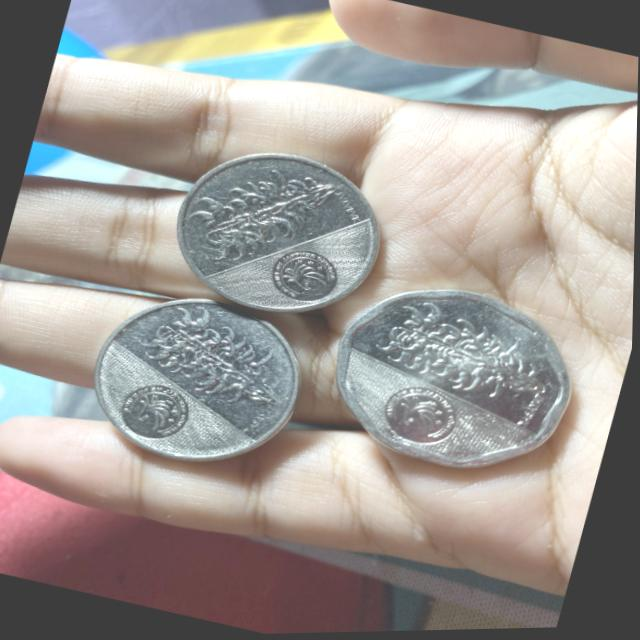5_New_Back: (373, 288, 552, 418), (136, 298, 302, 422), (191, 154, 340, 276)
